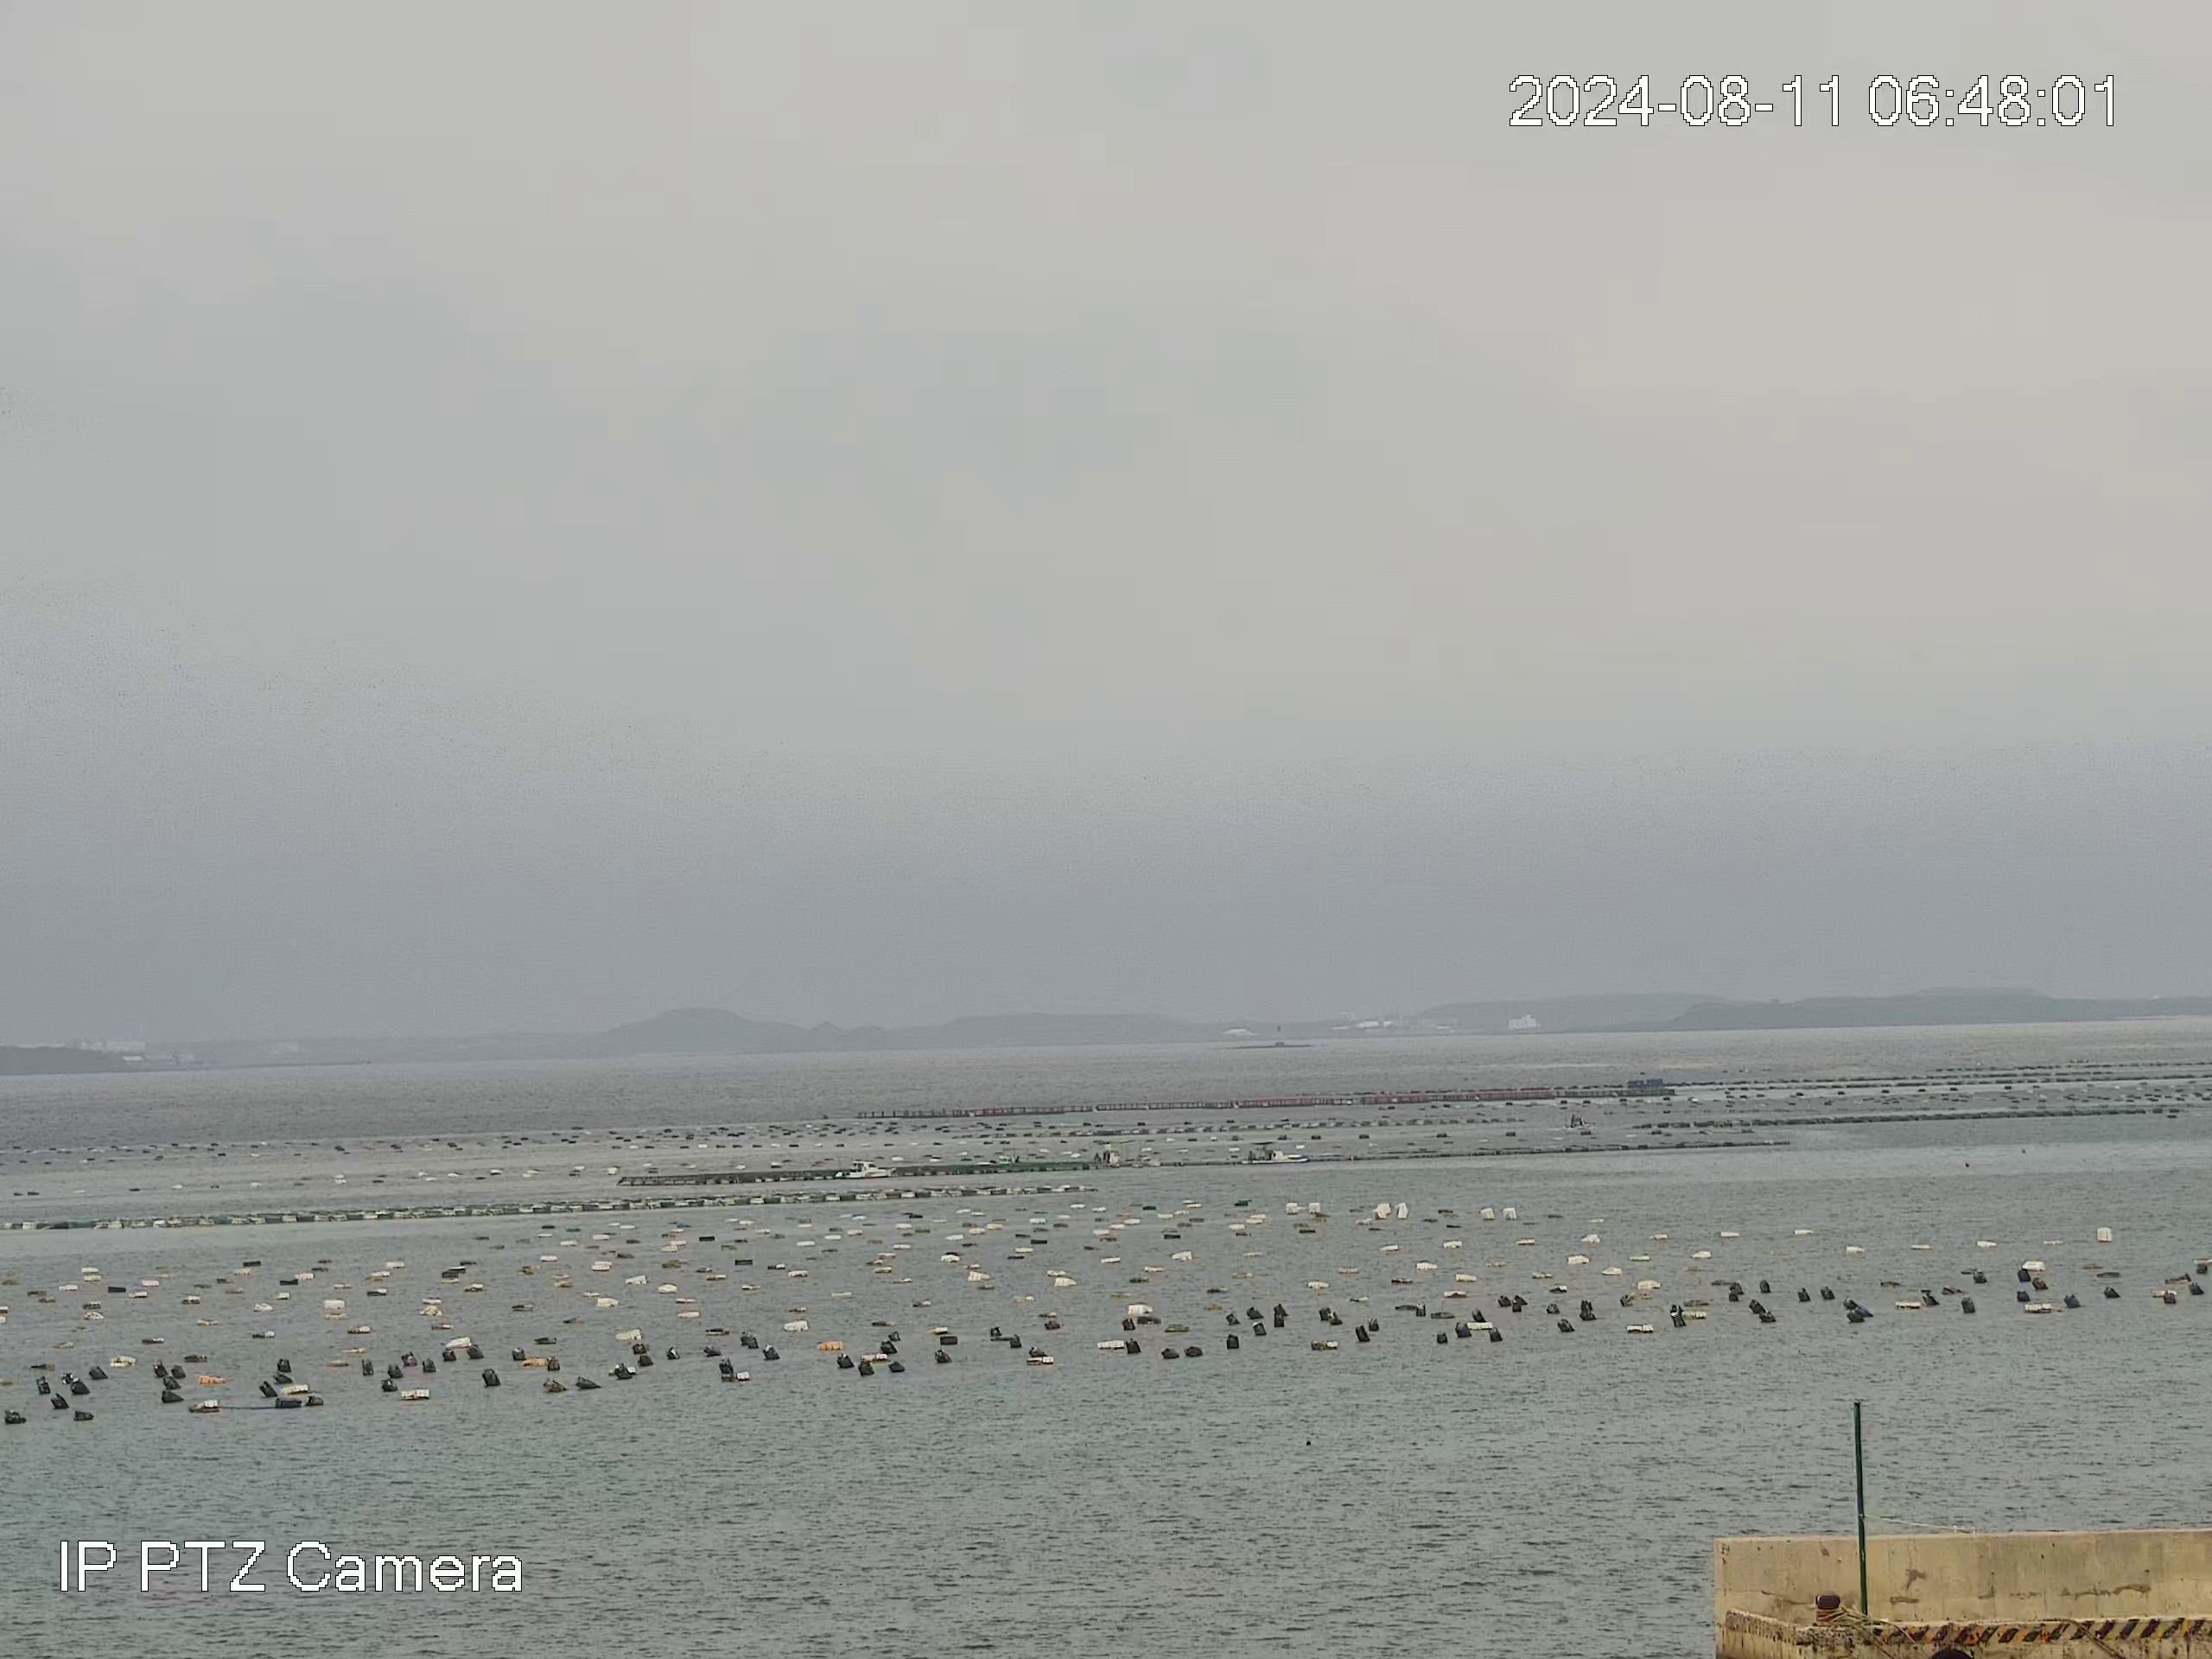boat: (1238, 1141, 1308, 1164), (833, 1159, 892, 1180)
